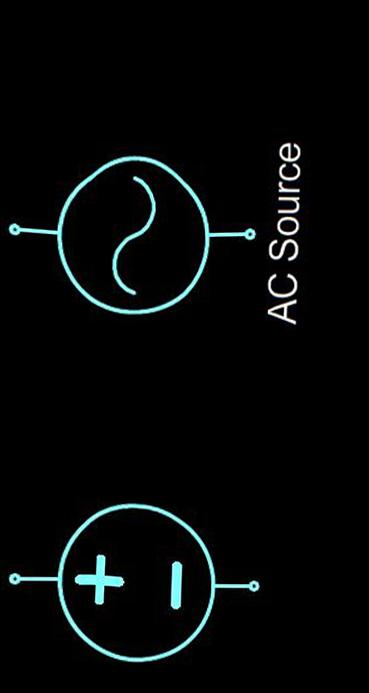Battery: (30, 489, 238, 669)
